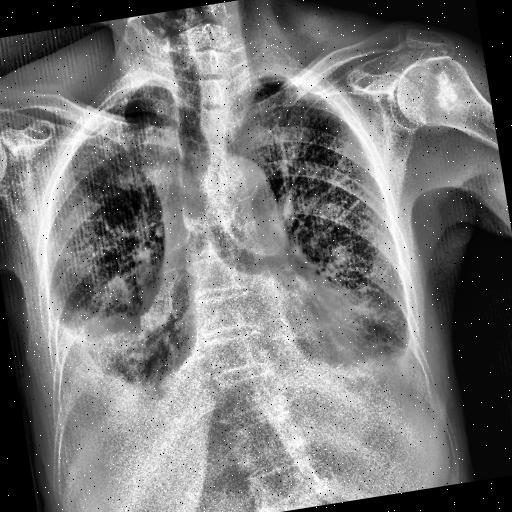0- Aortic enlargement: (196, 144, 294, 276)
1- Atelectasis: (73, 300, 156, 376)
10- Pleural effusion: (0, 216, 247, 481), (230, 228, 451, 450), (312, 304, 433, 400), (36, 300, 161, 378), (34, 341, 130, 423), (346, 332, 430, 390)
2- Calcification: (430, 69, 460, 111), (228, 172, 264, 206)
5- ILD: (294, 154, 406, 308), (39, 182, 163, 309)
8- Nodule-Mass: (0, 216, 247, 481)
